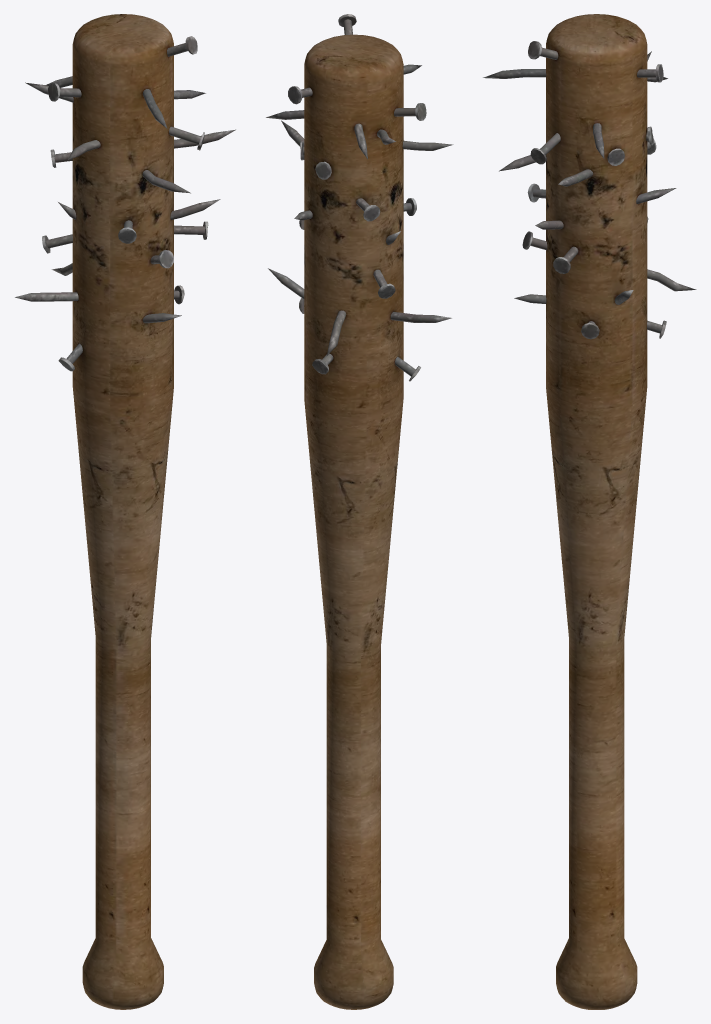
Rendered from NailBat.glb.
3 renders of one model, left to right at view 1: azimuth 30°, elevation 25°; view 2: azimuth 150°, elevation 25°; view 3: azimuth 270°, elevation 25°, orthographic. The views are drawn at different scales.
Parts seen in each view (by area): view 1: NailBat; view 2: NailBat; view 3: NailBat.
Boxes of the visible parts, left/top/right/bottom form: NailBat: left=15, top=14, right=235, bottom=1009; NailBat: left=266, top=14, right=453, bottom=1009; NailBat: left=483, top=14, right=696, bottom=1009.
Bounding box in the file's own units: 0.1813 × 0.8483 × 0.169.
1 material, 1 textured.
